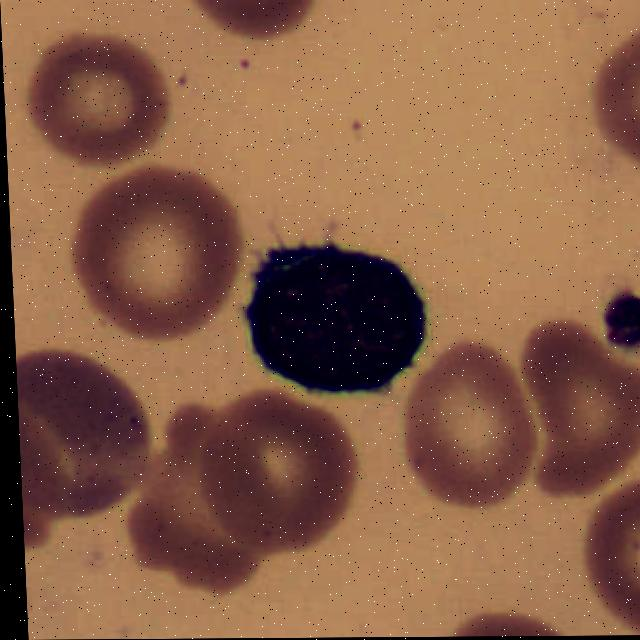lymphocyte: (243, 220, 433, 396)
platelets: (601, 288, 640, 350)
rbc: (71, 166, 240, 331), (109, 417, 258, 586), (202, 398, 353, 547), (16, 356, 147, 526), (515, 333, 640, 501), (19, 32, 174, 163), (401, 361, 532, 508), (18, 401, 93, 548), (585, 474, 640, 632), (591, 17, 640, 168), (187, 0, 320, 43), (445, 612, 565, 637)
